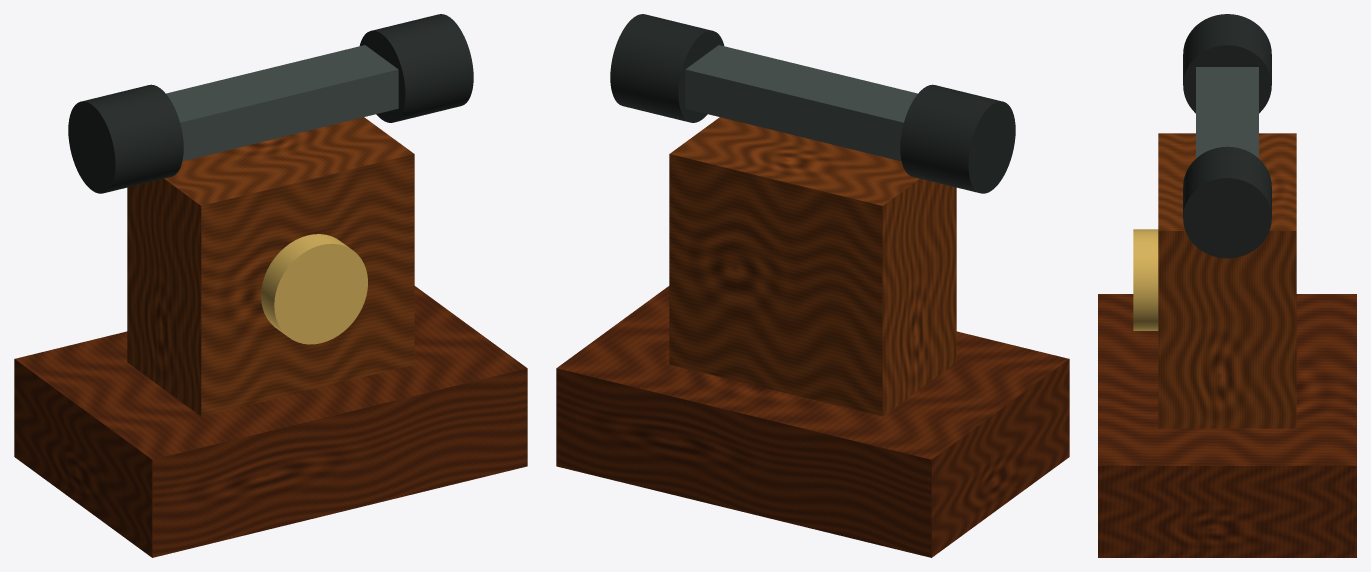
The model's file is telephone.glb.
3 renders of one model, left to right at view 1: azimuth 30°, elevation 25°; view 2: azimuth 150°, elevation 25°; view 3: azimuth 270°, elevation 25°, orthographic. The views are drawn at different scales.
Size of the model in its own units: 2.2 by 2.25 by 1.4.
5 materials, 2 textured.
